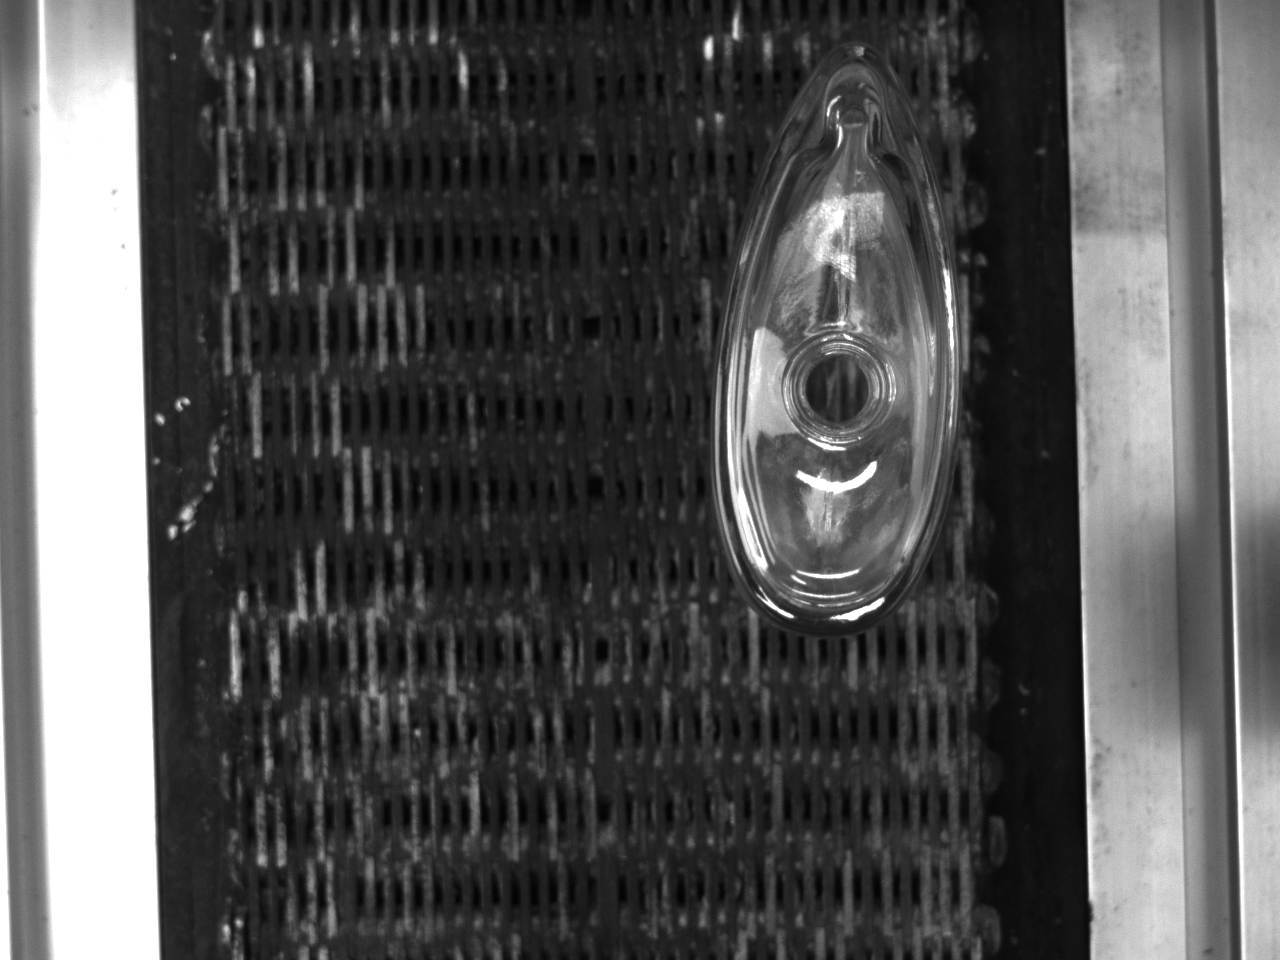bottleneck: (782, 329, 896, 453)
